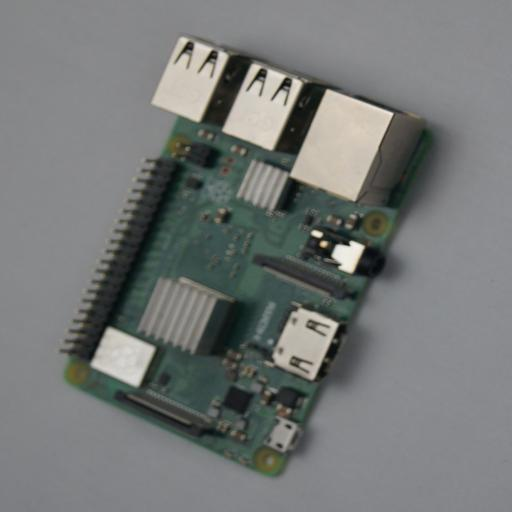Raspberry Pi 3 B-: (60, 38, 450, 477)
